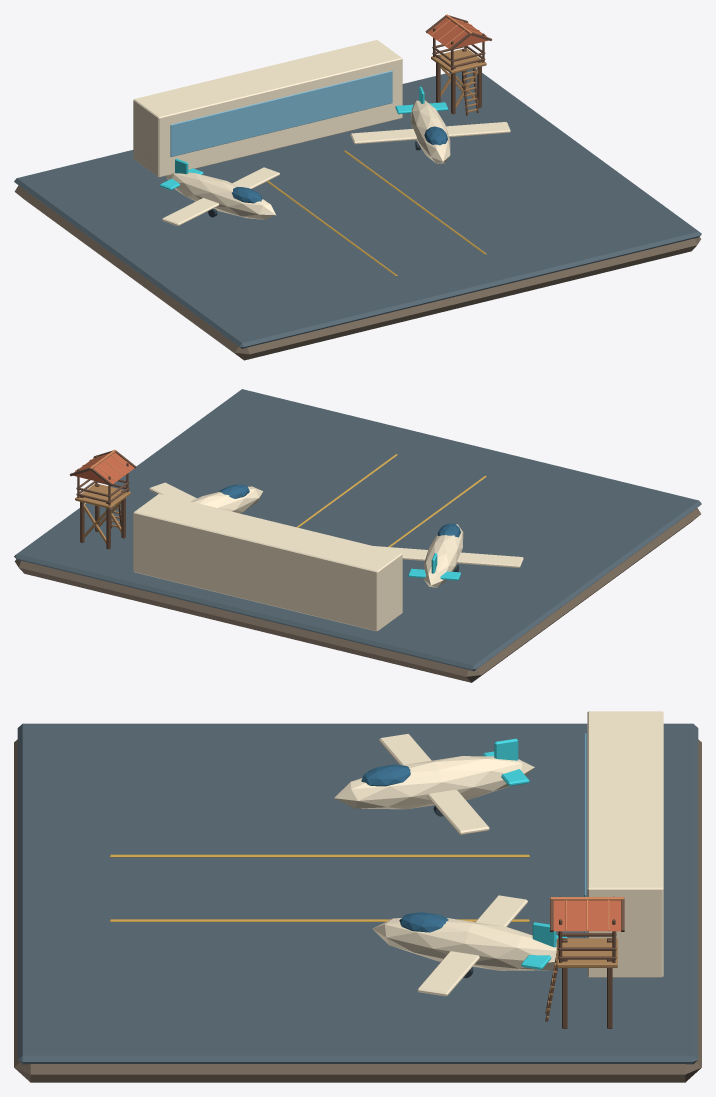
Rendered from world-airport.glb.
3 renders of one model, top to bottom at view 1: azimuth 30°, elevation 25°; view 2: azimuth 150°, elevation 25°; view 3: azimuth 270°, elevation 25°, orthographic. The views are drawn at different scales.
Parts seen in each view (by area): view 1: terrain-top, terminal-building, terrain-stratum, terminal-glass, fuselage.001, wing.002, fuselage.002, wing.001, tower-canopy.001, tower-deck.001; view 2: terrain-top, terminal-building, terrain-stratum, fuselage.001, wing.001, tower-canopy.001, fuselage.002, tower-deck.001; view 3: terrain-top, terminal-building, terrain-stratum, fuselage.001, fuselage.002, wing.002, wing.001, tower-canopy.001, taxiway-line, tower-deck.001, taxiway-line.001, cockpit.001 (+1 smaller).
Boxes of the visible parts, x1,y1,x2,y2 form: terrain-top: (14, 68, 701, 348); terminal-building: (133, 40, 402, 177); terrain-stratum: (14, 185, 700, 360); terminal-glass: (170, 70, 392, 156); fuselage.001: (166, 172, 275, 219); wing.002: (350, 122, 510, 144); fuselage.002: (411, 100, 450, 163); wing.001: (162, 167, 279, 226); tower-canopy.001: (427, 17, 488, 48); tower-deck.001: (431, 48, 486, 73); terrain-top: (14, 389, 701, 671); terminal-building: (133, 494, 402, 631); terrain-stratum: (14, 508, 700, 682); fuselage.001: (423, 524, 463, 587); wing.001: (374, 546, 523, 567); tower-canopy.001: (73, 452, 134, 484); fuselage.002: (191, 486, 262, 513); tower-deck.001: (75, 484, 130, 508); terrain-top: (17, 723, 698, 1064); terminal-building: (587, 711, 663, 977); terrain-stratum: (14, 739, 701, 1082); fuselage.001: (334, 756, 534, 809); fuselage.002: (372, 918, 556, 970); wing.002: (417, 895, 527, 996); wing.001: (379, 734, 489, 834); tower-canopy.001: (553, 901, 620, 931); taxiway-line: (109, 854, 529, 857); tower-deck.001: (556, 938, 617, 967); taxiway-line.001: (109, 919, 529, 921); cockpit.001: (361, 764, 410, 786).
Size of the model in its own units: 21 by 4.38 by 18.
